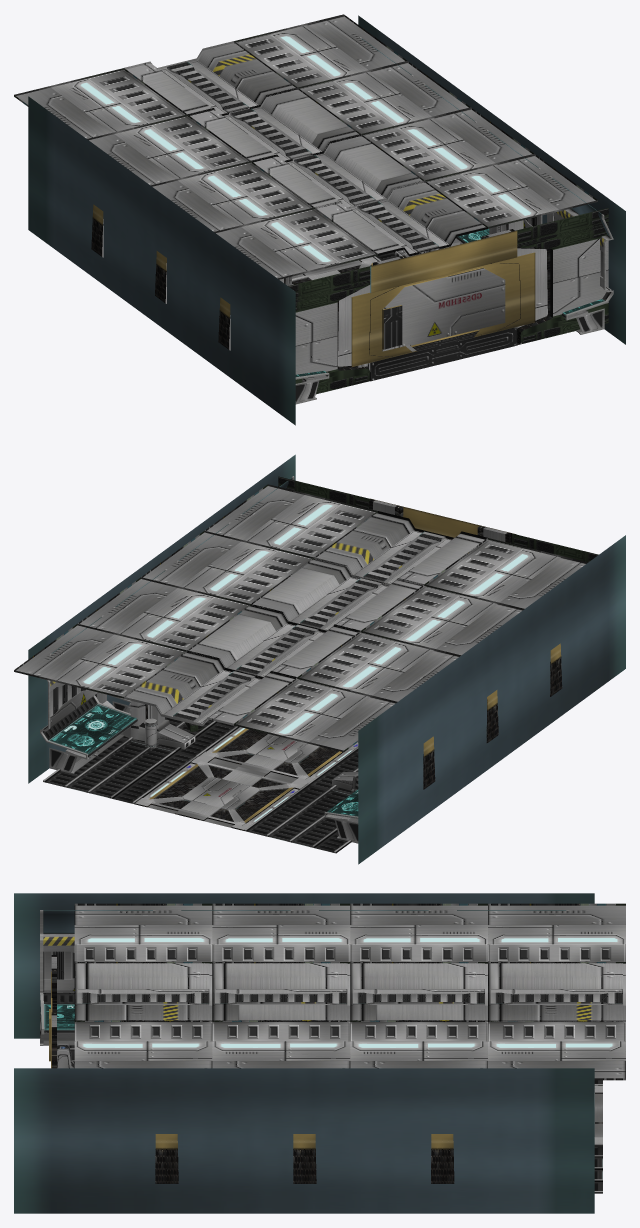
File: Modeluar_Environment.fbx
The picture shows the model from 3 angles, top to bottom: view 1: azimuth 30°, elevation 25°; view 2: azimuth 150°, elevation 25°; view 3: azimuth 270°, elevation 25°; orthographic projection. The views are drawn at different scales.
Parts seen in each view (by area): view 1: pPlane2, Main_Door, Side_Doors, Left_SideCeiling_Tile_17, MainCeiling_Tile_6, Left_SideCeiling_Tile_20, MainCeiling_Tile_3, Left_SideCeiling_Tile_18, Left_SideCeiling_Tile_19, MainCeiling_Tile_4, MainCeiling_Tile_7, Left_SideCeiling_Tile_06 (+7 smaller); view 2: pPlane2, MainCeiling_Tile_3, Left_SideCeiling_Tile_17, MainCeiling_Tile_6, Left_SideCeiling_Tile_20, Left_SideCeiling_Tile_18, Left_SideCeiling_Tile_19, MainCeiling_Tile_4, MainFloor_Tile_03, MainCeiling_Tile_7, Left_SideCeiling_Tile_06, MainCeiling_Tile7 (+11 smaller); view 3: pPlane2, Left_SideCeiling_Tile_16, Left_SideCeiling_Tile_15, Left_SideCeiling_Tile_14, Left_SideCeiling_Tile_06, MainCeiling_Tile_3, MainCeiling_Tile_6, MainCeiling_Tile_7, MainCeiling_Tile_4, Left_SideCeiling_Tile_17, Left_SideCeiling_Tile_19, Left_SideCeiling_Tile_20 (+8 smaller).
Part boxes in pixels (box(x1,y1,x2,y2)): pPlane2: box(28, 15, 625, 425); Main_Door: box(351, 230, 535, 381); Side_Doors: box(288, 208, 608, 394); Left_SideCeiling_Tile_17: box(234, 14, 407, 88); MainCeiling_Tile_6: box(314, 180, 487, 256); Left_SideCeiling_Tile_20: box(424, 154, 597, 228); MainCeiling_Tile_3: box(124, 41, 297, 115); Left_SideCeiling_Tile_18: box(297, 61, 470, 135); Left_SideCeiling_Tile_19: box(361, 107, 534, 181); MainCeiling_Tile_4: box(188, 88, 360, 162); MainCeiling_Tile_7: box(251, 134, 423, 208); Left_SideCeiling_Tile_06: box(14, 68, 187, 140); pPlane2: box(28, 454, 625, 864); MainCeiling_Tile_3: box(124, 650, 296, 726); Left_SideCeiling_Tile_17: box(14, 623, 186, 698); MainCeiling_Tile_6: box(314, 511, 487, 585); Left_SideCeiling_Tile_20: box(204, 484, 377, 558); Left_SideCeiling_Tile_18: box(77, 577, 250, 650); Left_SideCeiling_Tile_19: box(141, 531, 314, 604); MainCeiling_Tile_4: box(187, 604, 360, 677); MainFloor_Tile_03: box(134, 757, 306, 830); MainCeiling_Tile_7: box(251, 558, 423, 631); Left_SideCeiling_Tile_06: box(234, 677, 397, 752); MainCeiling_Tile7: box(40, 615, 358, 843); pPlane2: box(14, 893, 594, 1213); Left_SideCeiling_Tile_16: box(74, 903, 212, 963); Left_SideCeiling_Tile_15: box(212, 903, 350, 963); Left_SideCeiling_Tile_14: box(350, 903, 487, 963); Left_SideCeiling_Tile_06: box(488, 903, 625, 963); MainCeiling_Tile_3: box(488, 961, 625, 1021); MainCeiling_Tile_6: box(74, 961, 212, 1021); MainCeiling_Tile_7: box(212, 961, 350, 1021); MainCeiling_Tile_4: box(350, 961, 487, 1021); Left_SideCeiling_Tile_17: box(488, 1021, 625, 1080); Left_SideCeiling_Tile_19: box(212, 1020, 350, 1068); Left_SideCeiling_Tile_20: box(74, 1020, 212, 1068).
Size of the model in its own units: 18.29 by 6.98 by 26.64.
